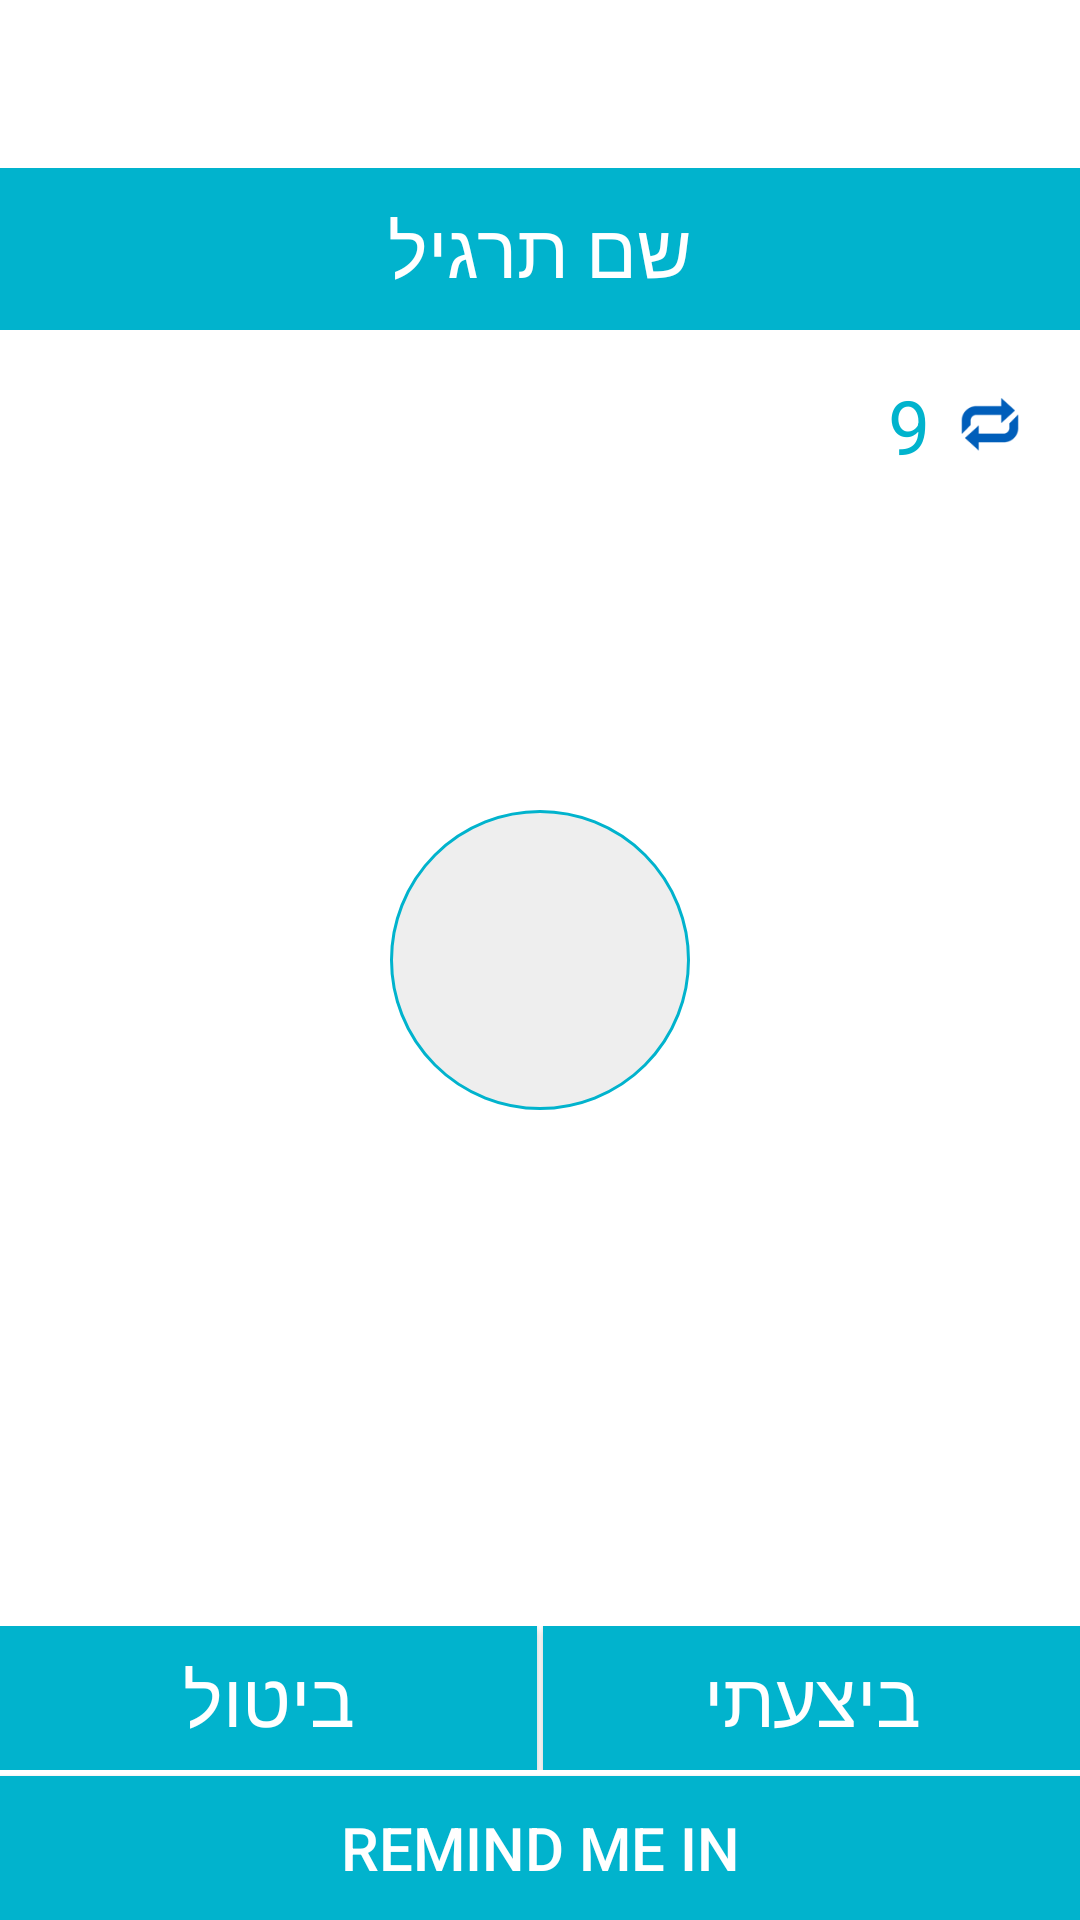

Where icons sit on this 1080w x 1920h app screen, as (x1, y1, x2, y2):
repeats: (961, 398, 1019, 451)
